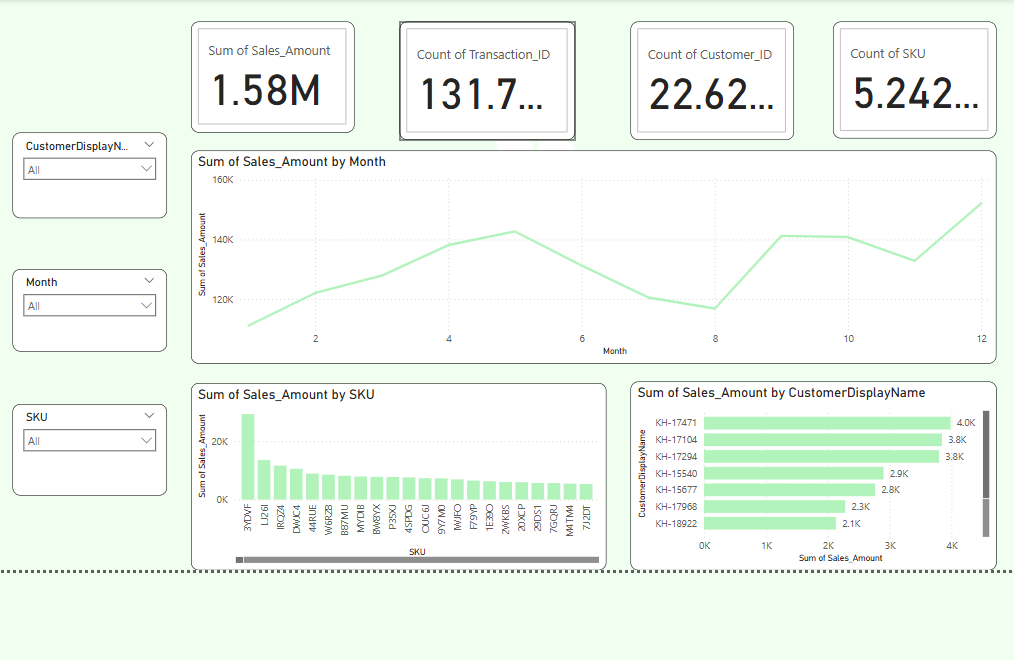

Layout of this report page (visuals, bound fields, positions):
{"tool":"powerbi","page":{"name":"Tổng quan doanh thu","canvas":[1280,720],"ordinal":0},"visuals":[{"type":"cardVisual","fields":{"Data":["Sum(FactSales.Sales_Amount)"]},"box":[241.9,28.3,206,139.8],"z":0},{"type":"cardVisual","fields":{"Data":["CountNonNull(FactSales.Transaction_ID)"]},"box":[504.6,28.3,221.1,149.3],"z":1000},{"type":"cardVisual","fields":{"Data":["Count(FactSales.Customer_ID)"]},"box":[795.6,28.3,206,149.3],"z":2000},{"type":"cardVisual","fields":{"Data":["Count(DimProduct.SKU)"]},"box":[1050.7,28.3,206,147.4],"z":3000},{"type":"lineChart","fields":{"Category":["DimDate.Month"],"Y":["Sum(FactSales.Sales_Amount)"]},"box":[241.9,190.9,1014.8,268.3],"z":4000},{"type":"columnChart","fields":{"Category":["DimProduct.SKU"],"Y":["Sum(FactSales.Sales_Amount)"]},"box":[241.9,483.8,523.5,236.2],"z":5000},{"type":"clusteredBarChart","fields":{"Y":["Sum(FactSales.Sales_Amount)"],"Category":["DimCustomer.CustomerDisplayName"]},"box":[795.6,481.9,461.1,238.1],"z":6000},{"type":"slicer","fields":{"Values":["DimCustomer.CustomerDisplayName"]},"box":[17,168.2,194.6,107.7],"z":7000},{"type":"slicer","fields":{"Values":["DimDate.Month"]},"box":[17,340.2,194.6,103.9],"z":8000},{"type":"slicer","fields":{"Values":["FactSales.SKU"]},"box":[17,510.2,194.6,115.3],"z":9000}]}

Visuals, with their boxes on the page's 1280x720 design canvas (x1, y1, x2, y2). These are canvas units, not pixel positions in the 1014x660 screenshot, which may show the page scaled, cropped or inside an application window:
cardVisual - Sum(FactSales.Sales_Amount): <bbox>242, 28, 448, 168</bbox>
cardVisual - CountNonNull(FactSales.Transaction_ID): <bbox>505, 28, 726, 178</bbox>
cardVisual - Count(FactSales.Customer_ID): <bbox>796, 28, 1002, 178</bbox>
cardVisual - Count(DimProduct.SKU): <bbox>1051, 28, 1257, 176</bbox>
lineChart - DimDate.Month x Sum(FactSales.Sales_Amount): <bbox>242, 191, 1257, 459</bbox>
columnChart - DimProduct.SKU x Sum(FactSales.Sales_Amount): <bbox>242, 484, 765, 720</bbox>
clusteredBarChart - Sum(FactSales.Sales_Amount) x DimCustomer.CustomerDisplayName: <bbox>796, 482, 1257, 720</bbox>
slicer - DimCustomer.CustomerDisplayName: <bbox>17, 168, 212, 276</bbox>
slicer - DimDate.Month: <bbox>17, 340, 212, 444</bbox>
slicer - FactSales.SKU: <bbox>17, 510, 212, 626</bbox>
